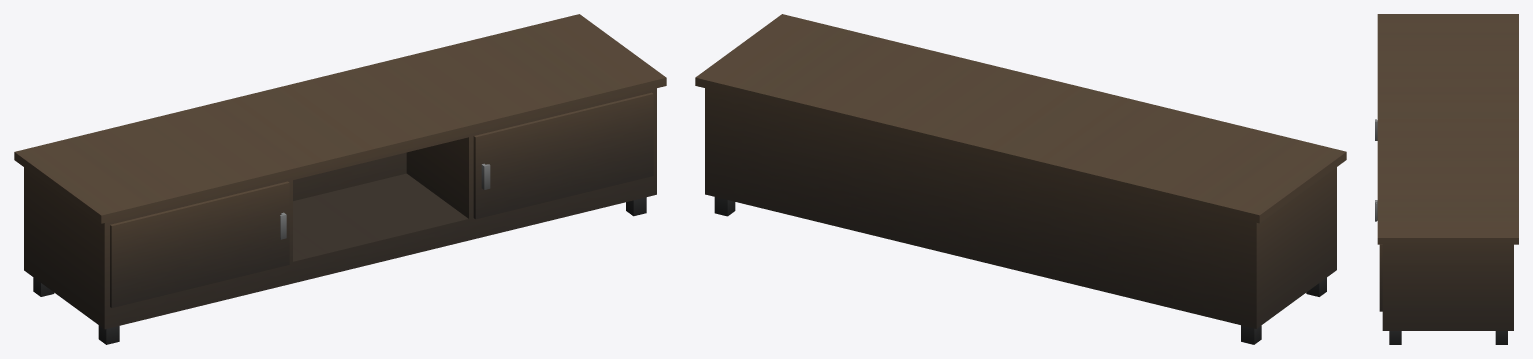
The model's file is SideboardCabinet_A_Brown.fbx.
The picture shows the model from 3 angles, left to right: view 1: azimuth 30°, elevation 25°; view 2: azimuth 150°, elevation 25°; view 3: azimuth 270°, elevation 25°; orthographic projection. The views are drawn at different scales.
Parts seen in each view (by area): view 1: SideboardCabinet_A_Brown; view 2: SideboardCabinet_A_Brown; view 3: SideboardCabinet_A_Brown.
Boxes of the visible parts, <box> form: SideboardCabinet_A_Brown: <box>14,14,666,344</box>; SideboardCabinet_A_Brown: <box>695,14,1346,344</box>; SideboardCabinet_A_Brown: <box>1375,14,1518,344</box>.
Size of the model in its own units: 300 by 69.86 by 81.41.
